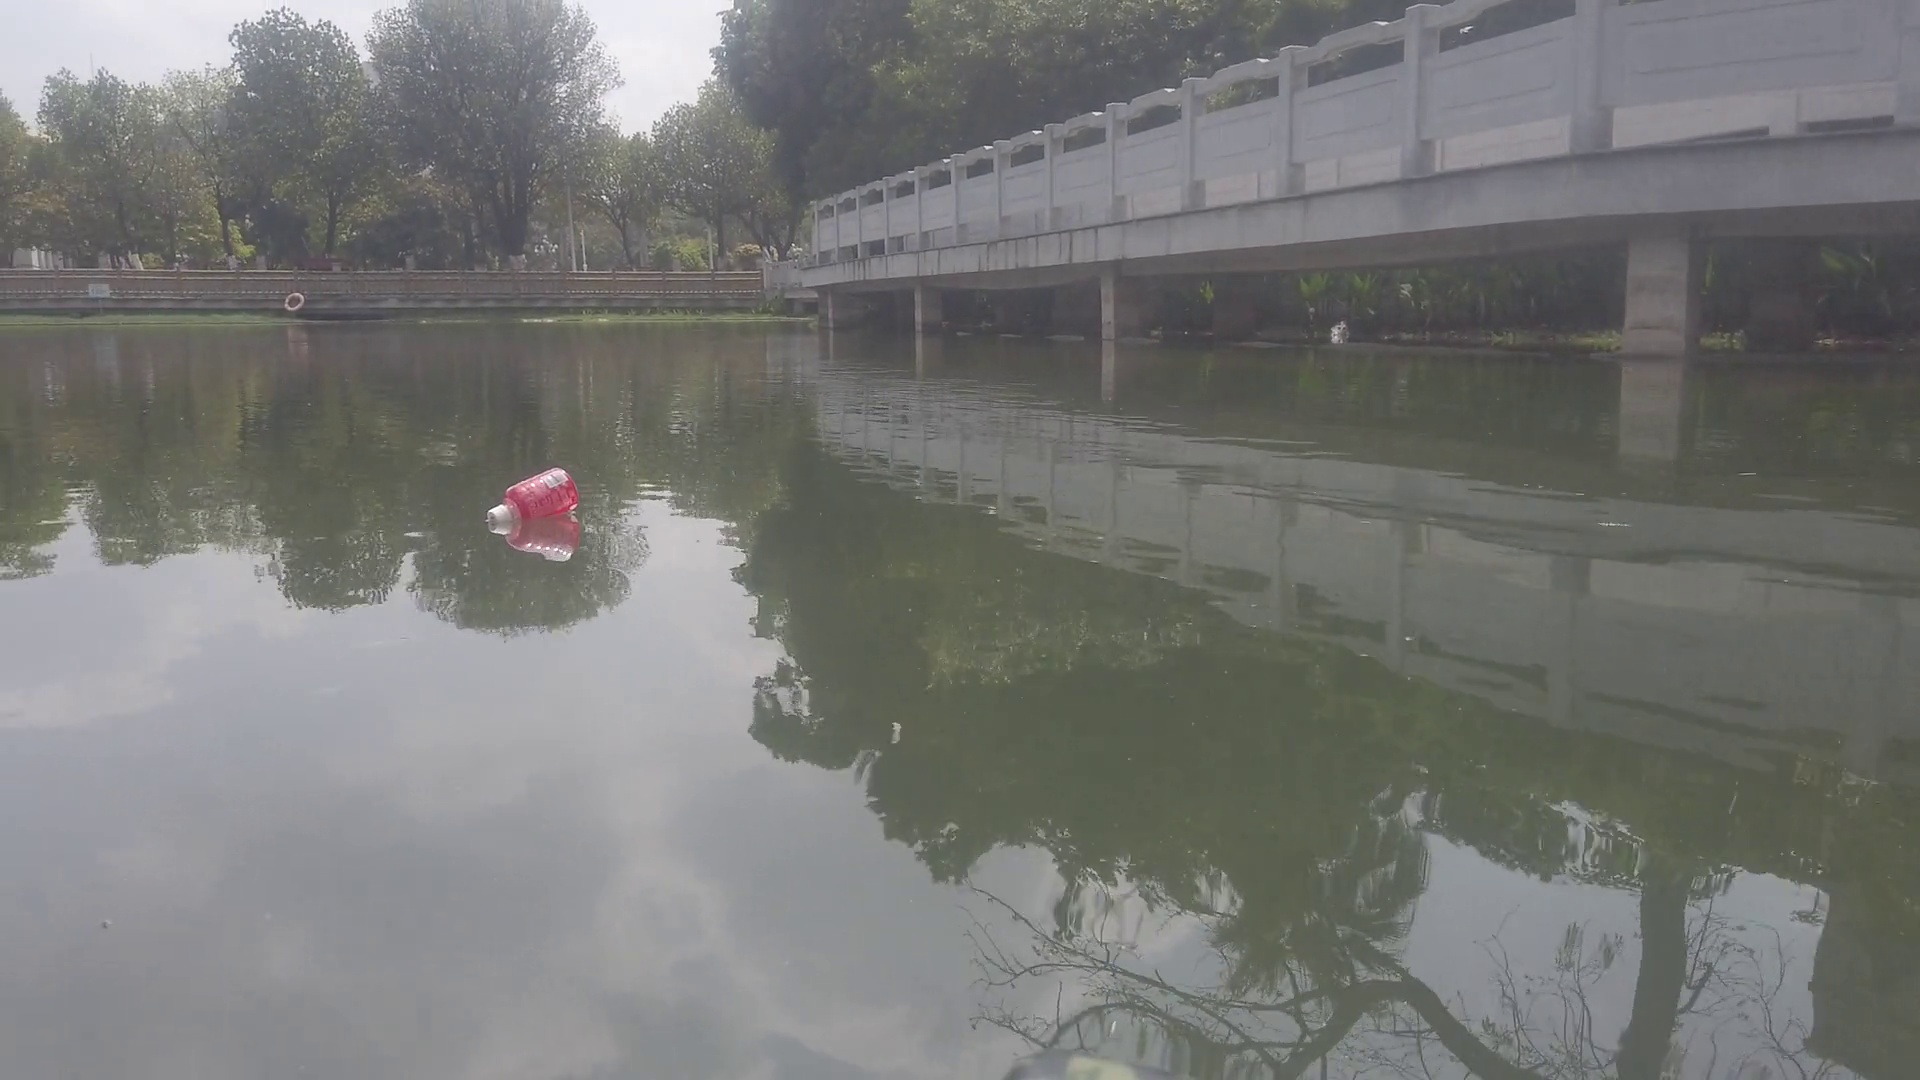bottle: (485, 465, 582, 527)
